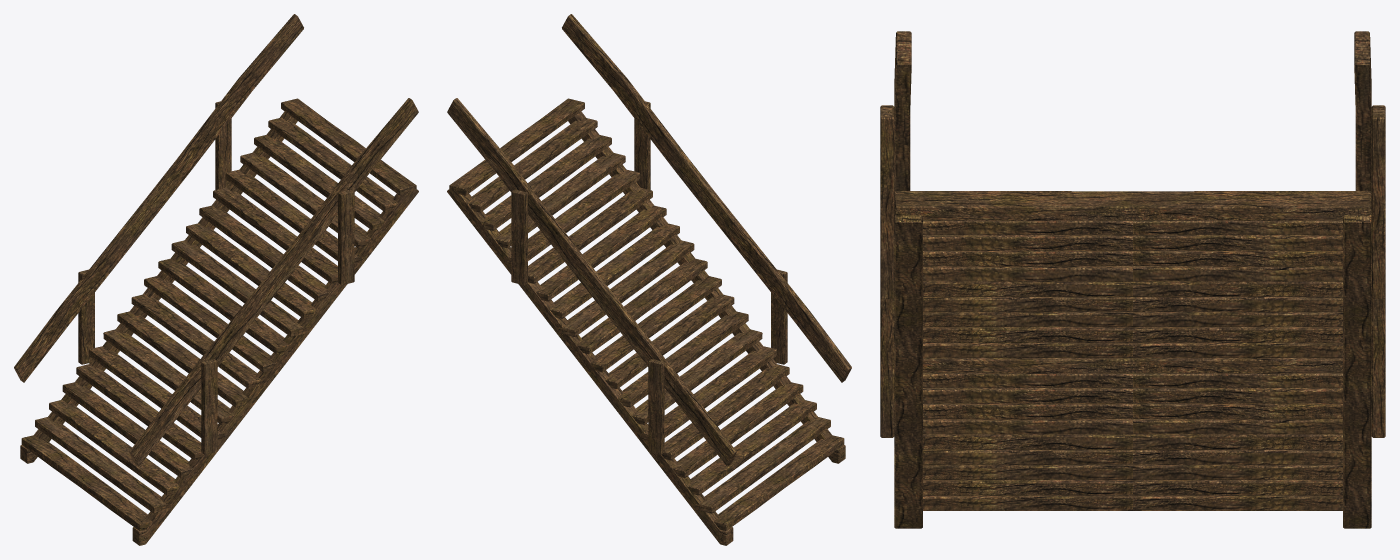
Rendered from Treppe_4m.gltf.
The picture shows the model from 3 angles, left to right: view 1: azimuth 30°, elevation 25°; view 2: azimuth 150°, elevation 25°; view 3: azimuth 270°, elevation 25°; orthographic projection. The views are drawn at different scales.
Visible parts, largest first — view 1: Treppe_4m; view 2: Treppe_4m; view 3: Treppe_4m.
Part boxes in pixels (x1,y1,x2,y2): Treppe_4m: [14, 14, 418, 545]; Treppe_4m: [447, 14, 851, 545]; Treppe_4m: [880, 31, 1385, 528].
Bounding box in the file's own units: 4.19 × 5.29 × 3.2.
1 material, 1 textured.
